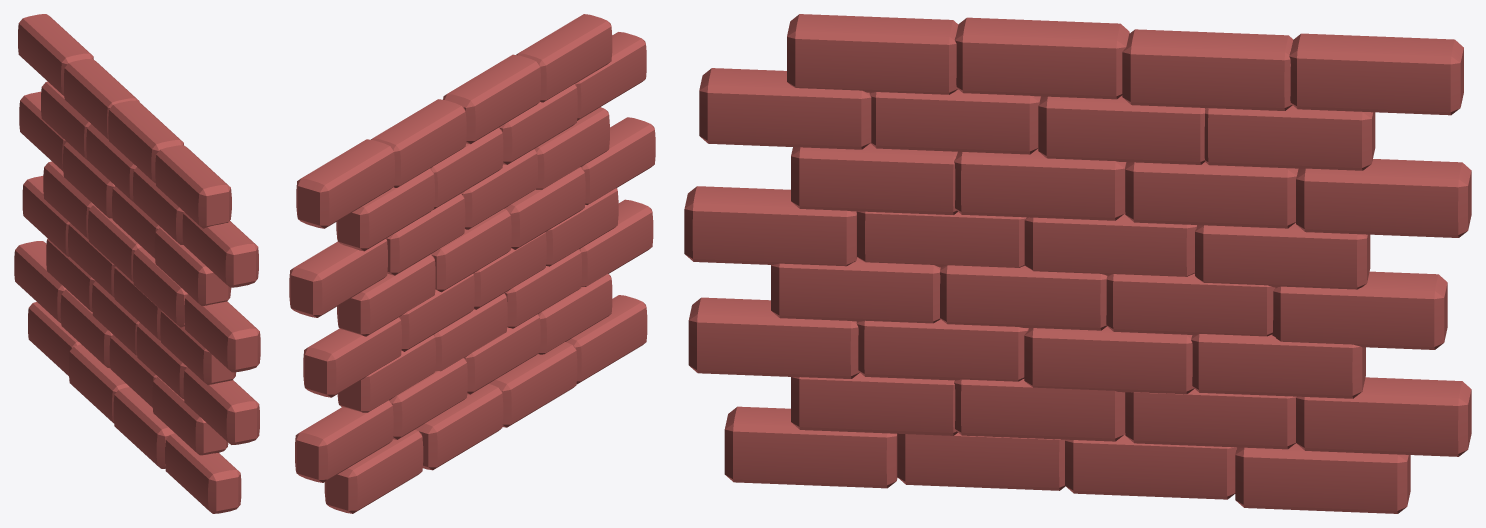
The model's file is brick_tiling_flat.fbx.
3 views of the same model, side by side, from view 1: azimuth 30°, elevation 25°; view 2: azimuth 150°, elevation 25°; view 3: azimuth 270°, elevation 25° (orthographic). The views are drawn at different scales.
Visible parts, largest first — view 1: brick15, brick11, brick28, brick23, brick14, brick12, brick19, brick7, brick8, brick29, brick24, brick25 (+20 smaller); view 2: brick19, brick25, brick6, brick12, brick18, brick15, brick7, brick31, brick4, brick30, brick16, brick29 (+20 smaller); view 3: brick19, brick12, brick7, brick15, brick6, brick25, brick11, brick14, brick23, brick18, brick28, brick1 (+20 smaller).
Boxes of the visible parts, <box> form: brick15: <box>155,145,231,228</box>; brick11: <box>184,294,260,372</box>; brick28: <box>165,433,241,513</box>; brick23: <box>183,367,259,444</box>; brick14: <box>182,212,258,287</box>; brick12: <box>108,100,183,183</box>; brick19: <box>18,14,93,95</box>; brick7: <box>64,58,139,139</box>; brick8: <box>154,227,231,305</box>; brick29: <box>113,387,174,468</box>; brick24: <box>152,376,228,455</box>; brick25: <box>14,241,66,323</box>; brick19: <box>296,139,394,228</box>; brick25: <box>295,400,393,482</box>; brick6: <box>289,238,387,317</box>; brick12: <box>443,54,540,144</box>; brick18: <box>303,317,401,397</box>; brick15: <box>516,14,612,102</box>; brick7: <box>371,99,466,187</box>; brick31: <box>324,429,423,513</box>; brick4: <box>337,254,435,336</box>; brick30: <box>415,384,503,470</box>; brick16: <box>336,168,434,251</box>; brick29: <box>489,342,577,427</box>; brick19: <box>1289,33,1463,115</box>; brick12: <box>954,17,1129,99</box>; brick7: <box>1122,29,1293,110</box>; brick15: <box>787,14,958,94</box>; brick6: <box>1296,159,1471,237</box>; brick25: <box>1296,377,1471,456</box>; brick11: <box>684,186,857,266</box>; brick14: <box>699,68,871,149</box>; brick23: <box>688,297,859,378</box>; brick18: <box>1272,271,1447,349</box>; brick28: <box>724,406,897,488</box>; brick1: <box>954,148,1126,220</box>.
Size of the model in its own units: 83.1 by 292 by 446.
